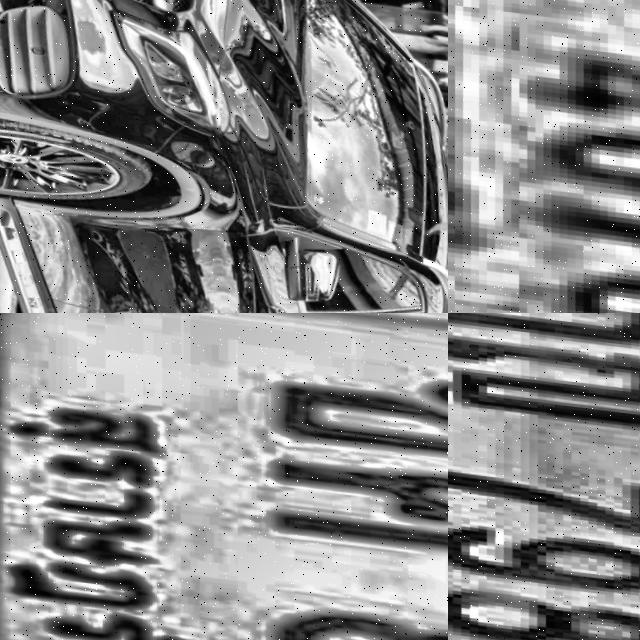license-plate: (0, 313, 448, 640), (448, 313, 640, 640), (448, 0, 640, 313)
